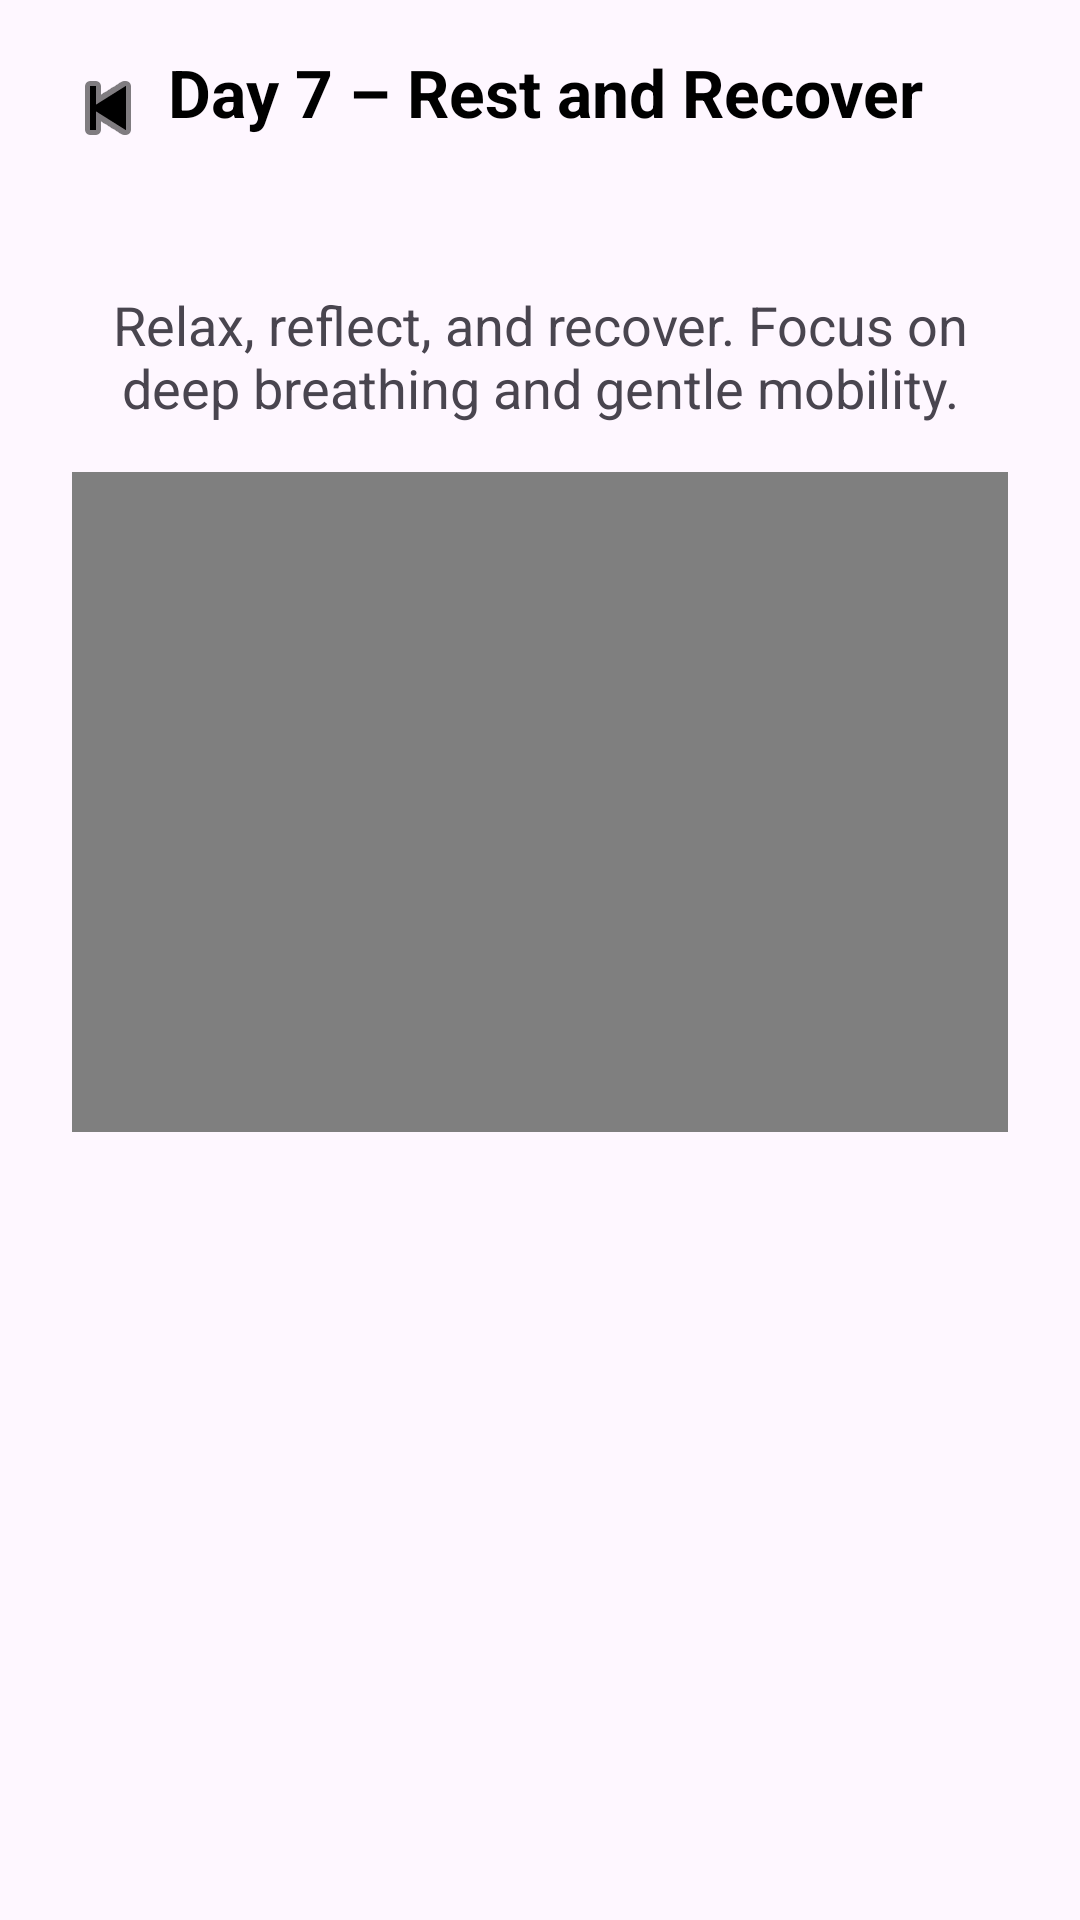

Named icons in this screenshot (1080px×1920px) and their centers, (x,y):
Back: (108,108)
